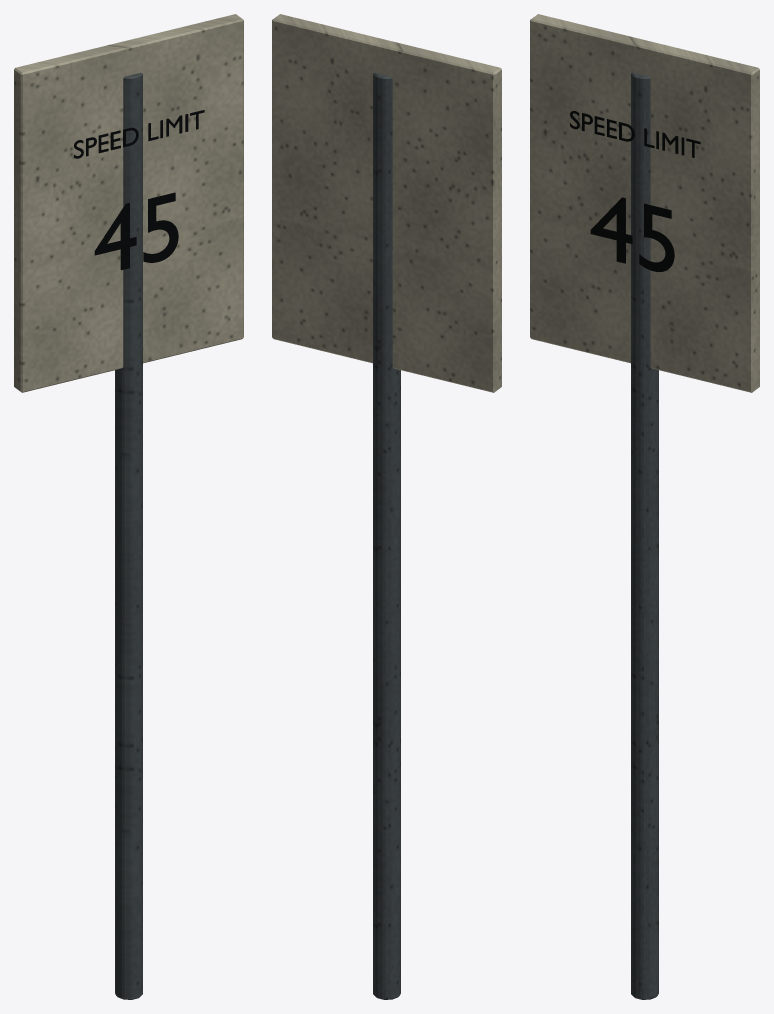
Rendered from PROP-75AC14A98E6C_lod1.glb.
The picture shows the model from 3 angles, left to right: view 1: azimuth 30°, elevation 25°; view 2: azimuth 150°, elevation 25°; view 3: azimuth 330°, elevation 25°; orthographic projection.
Parts seen in each view (by area): view 1: sign_plate.020, sign_post.027, sign_letters_45.001, sign_letters_SPEED LIMIT.003; view 2: sign_plate.020, sign_post.027; view 3: sign_plate.020, sign_post.027, sign_letters_45.001, sign_letters_SPEED LIMIT.003.
Boxes of the visible parts, x1=… form: sign_plate.020: x1=14, y1=14, x2=243, y2=392; sign_post.027: x1=115, y1=72, x2=142, y2=999; sign_letters_45.001: x1=94, y1=192, x2=178, y2=270; sign_letters_SPEED LIMIT.003: x1=74, y1=110, x2=204, y2=158; sign_plate.020: x1=272, y1=14, x2=501, y2=392; sign_post.027: x1=373, y1=72, x2=400, y2=999; sign_plate.020: x1=530, y1=14, x2=759, y2=392; sign_post.027: x1=631, y1=72, x2=658, y2=999; sign_letters_45.001: x1=590, y1=197, x2=674, y2=271; sign_letters_SPEED LIMIT.003: x1=570, y1=111, x2=700, y2=157.
Size of the model in its own units: 0.62 by 2.52 by 0.0823.
Materials: 3 (3 with a texture image).
